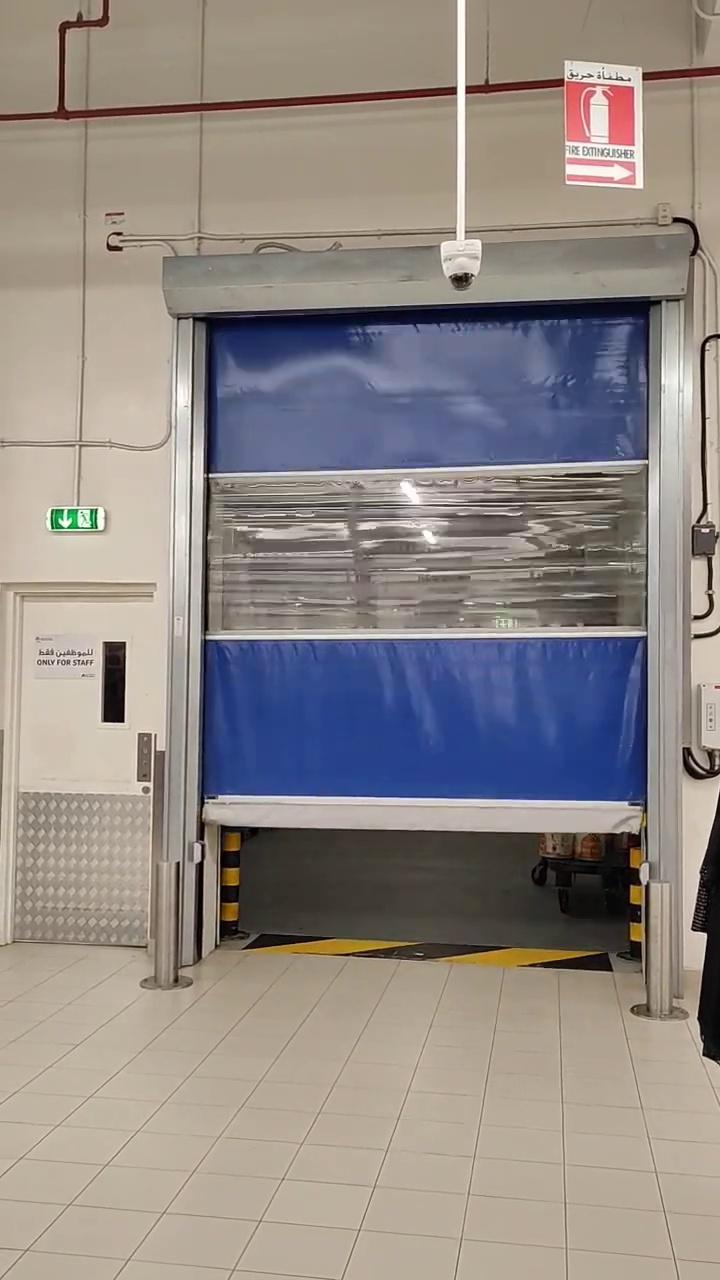Strip: (253, 925, 617, 969)
